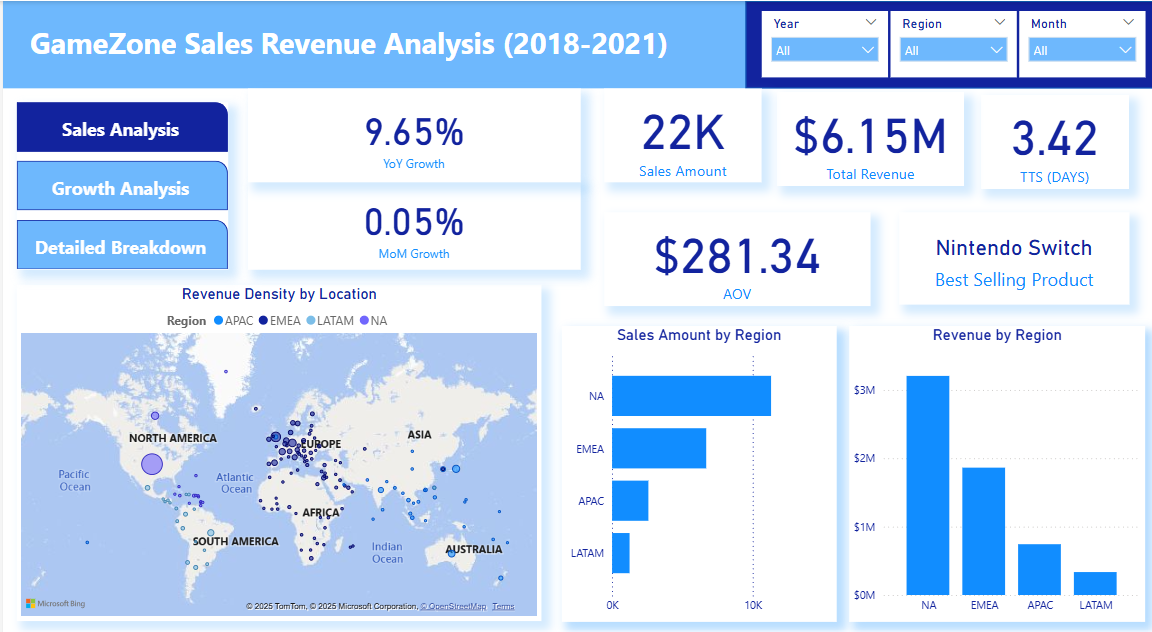

This screenshot's page, from the dashboard's own definition file:
{"tool":"powerbi","page":{"name":"Sales Analysis","canvas":[1280,720],"ordinal":0},"visuals":[{"type":"shape","box":[0,0,1280.3,97],"z":0},{"type":"shape","box":[823,0,457.2,97],"z":1000},{"type":"map","title":"Revenue Density by Location","fields":{"Category":["orders_cleaned.COUNTRY_CODE_CLEANED"],"Series":["region_cleaned.REGION"],"Size":["Key Measures.Profit"]},"box":[15.2,314.5,581.9,372.7],"z":2000},{"type":"card","fields":{"Values":["Key Measures.ProfitByRegion"]},"box":[666.5,97,174.6,103.9],"z":3000},{"type":"card","fields":{"Values":["Key Measures.Profit"]},"box":[857.7,101.1,207.8,103.9],"z":4000},{"type":"card","fields":{"Values":["Key Measures.TTS (DAYS)"]},"box":[1083.5,103.9,164.9,103.9],"z":5000},{"type":"slicer","fields":{"Values":["orders_cleaned.Year"]},"box":[841,11.1,139.9,73.4],"z":6000},{"type":"slicer","fields":{"Values":["orders_cleaned.Month"]},"box":[1126.5,11.1,139.9,73.4],"z":7000},{"type":"pageNavigator","box":[15.2,112.2,234.2,185.7],"z":8000},{"type":"slicer","fields":{"Values":["region_cleaned.REGION"]},"box":[983.8,11.1,139.9,73.4],"z":9000},{"type":"card","fields":{"Values":["Key Measures.Best Selling Product"]},"box":[993.5,234.2,254.9,102.5],"z":10000},{"type":"textbox","box":[24.9,19.4,789.8,65.1],"z":11000},{"type":"card","fields":{"Values":["Key Measures.AOV"]},"box":[666.5,234.2,295.1,103.9],"z":12000},{"type":"card","fields":{"Values":["Key Measures.MoM_Growth"]},"box":[271.6,199.5,368.6,98.4],"z":13000},{"type":"card","fields":{"Values":["Key Measures.YoY_Growth"]},"box":[271.6,97,368.6,103.9],"z":14000},{"type":"barChart","title":"Sales Amount by Region","fields":{"Category":["region_cleaned.REGION"],"Y":["Key Measures.NumSales"]},"box":[619.4,360.3,304.8,328.4],"z":15000},{"type":"columnChart","title":"Revenue by Region","fields":{"Category":["region_cleaned.REGION"],"Y":["Key Measures.Total Revenue"]},"box":[938,360.3,328.4,328.4],"z":16000}]}

Visuals, with their boxes in screenshot pixels (x1, y1, x2, y2), scaled from the page's 1280x720 canvas onto the 1152x632 screenshot:
shape: (0, 0, 1151, 85)
shape: (741, 0, 1151, 85)
"Revenue Density by Location" map: (14, 276, 537, 603)
card - Key Measures.ProfitByRegion: (600, 85, 757, 176)
card - Key Measures.Profit: (772, 89, 959, 180)
card - Key Measures.TTS (DAYS): (975, 91, 1124, 182)
slicer - orders_cleaned.Year: (757, 10, 883, 74)
slicer - orders_cleaned.Month: (1014, 10, 1140, 74)
pageNavigator: (14, 98, 224, 261)
slicer - region_cleaned.REGION: (885, 10, 1011, 74)
card - Key Measures.Best Selling Product: (894, 206, 1124, 296)
textbox: (22, 17, 733, 74)
card - Key Measures.AOV: (600, 206, 865, 297)
card - Key Measures.MoM_Growth: (244, 175, 576, 261)
card - Key Measures.YoY_Growth: (244, 85, 576, 176)
"Sales Amount by Region" barChart: (557, 316, 832, 605)
"Revenue by Region" columnChart: (844, 316, 1140, 605)
